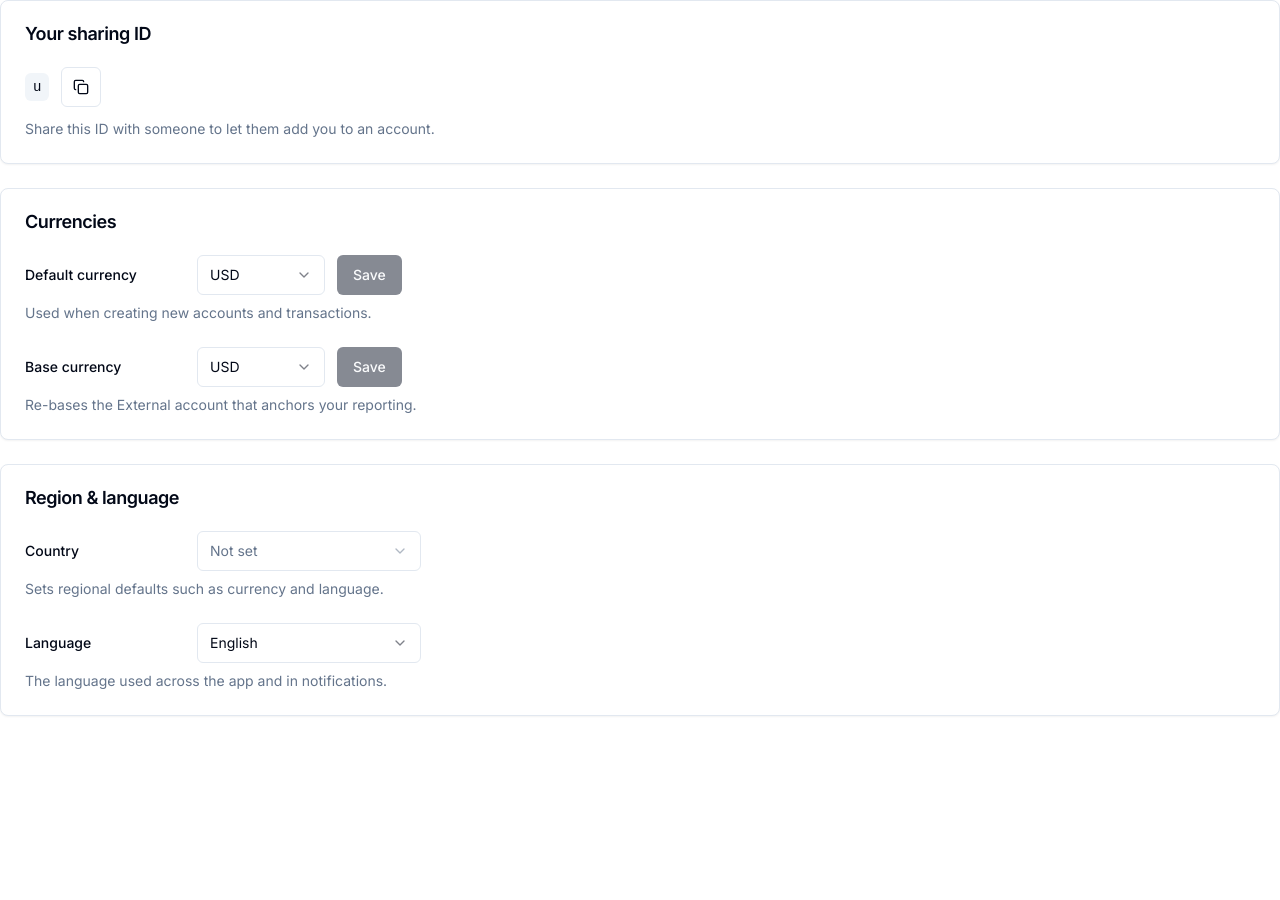
Test: ProfileGeneralPane › reflects a country-cascaded default-currency change without a reload
Expected: the dropdown named "Default currency" reads "USD", [197,255,325,295]
Click the dropdown named "Country" at (309, 551), box [197,531,421,571]
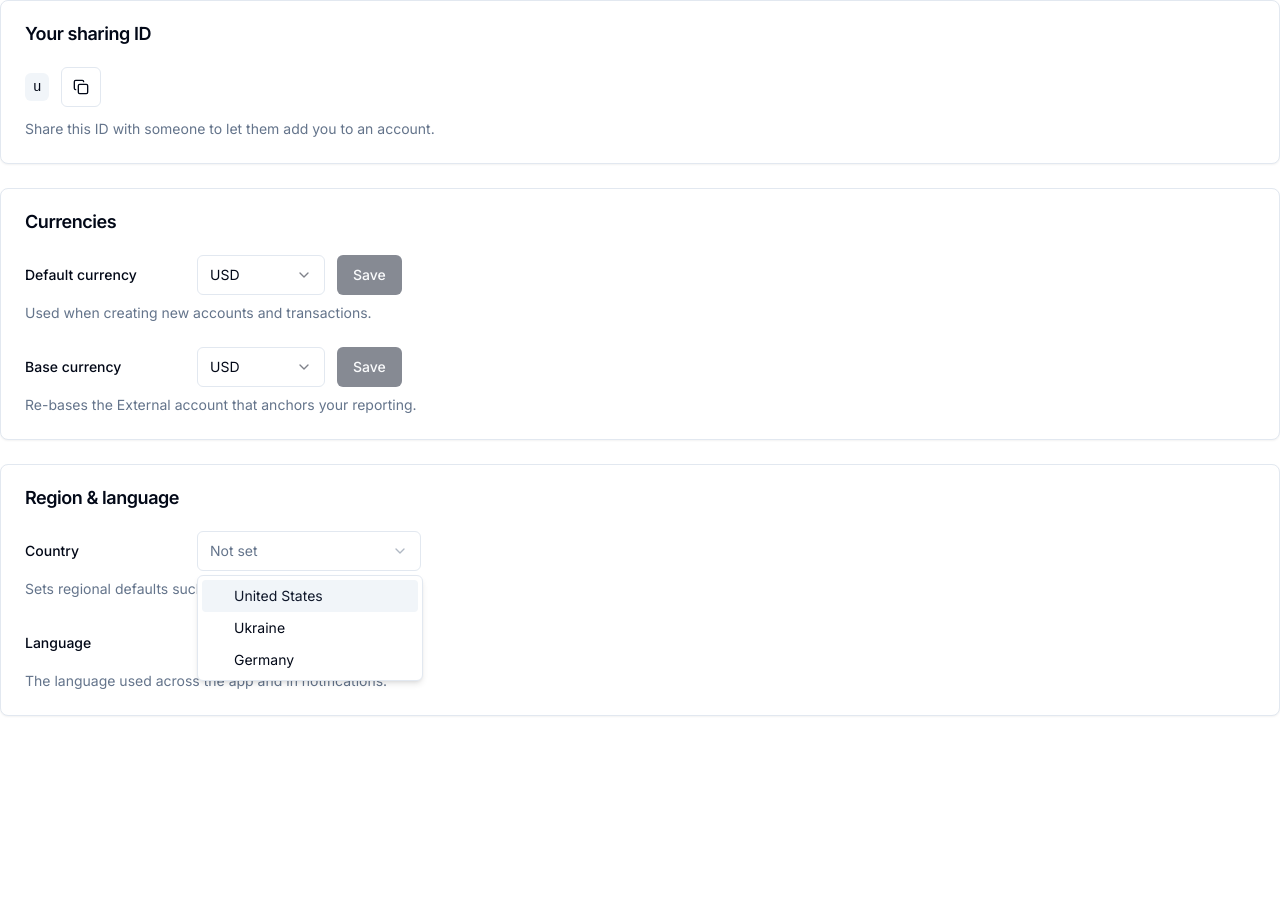
Click the option "Ukraine" at (260, 628), box [234,619,285,636]
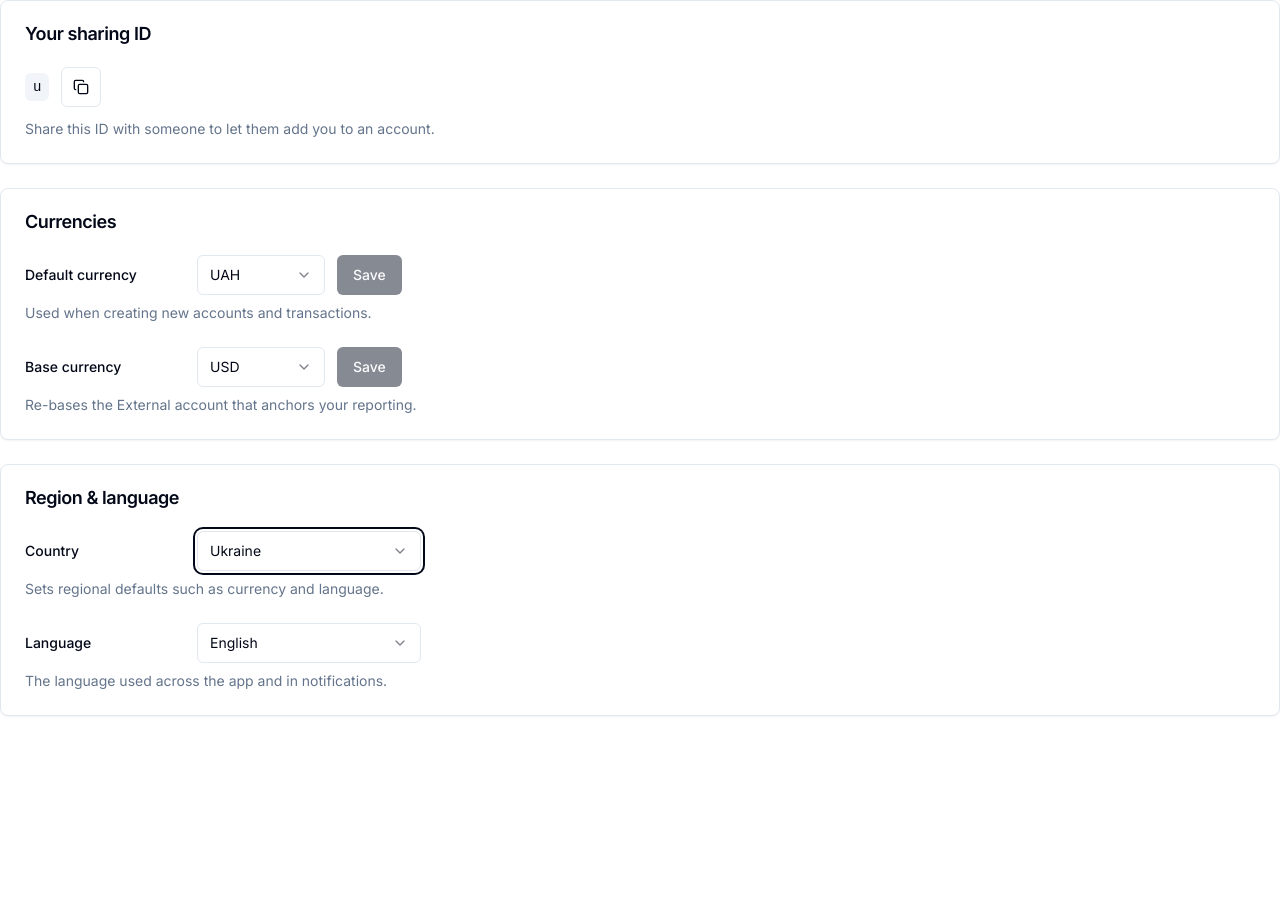
Expected: the dropdown named "Default currency" reads "UAH", [197,255,325,295]
